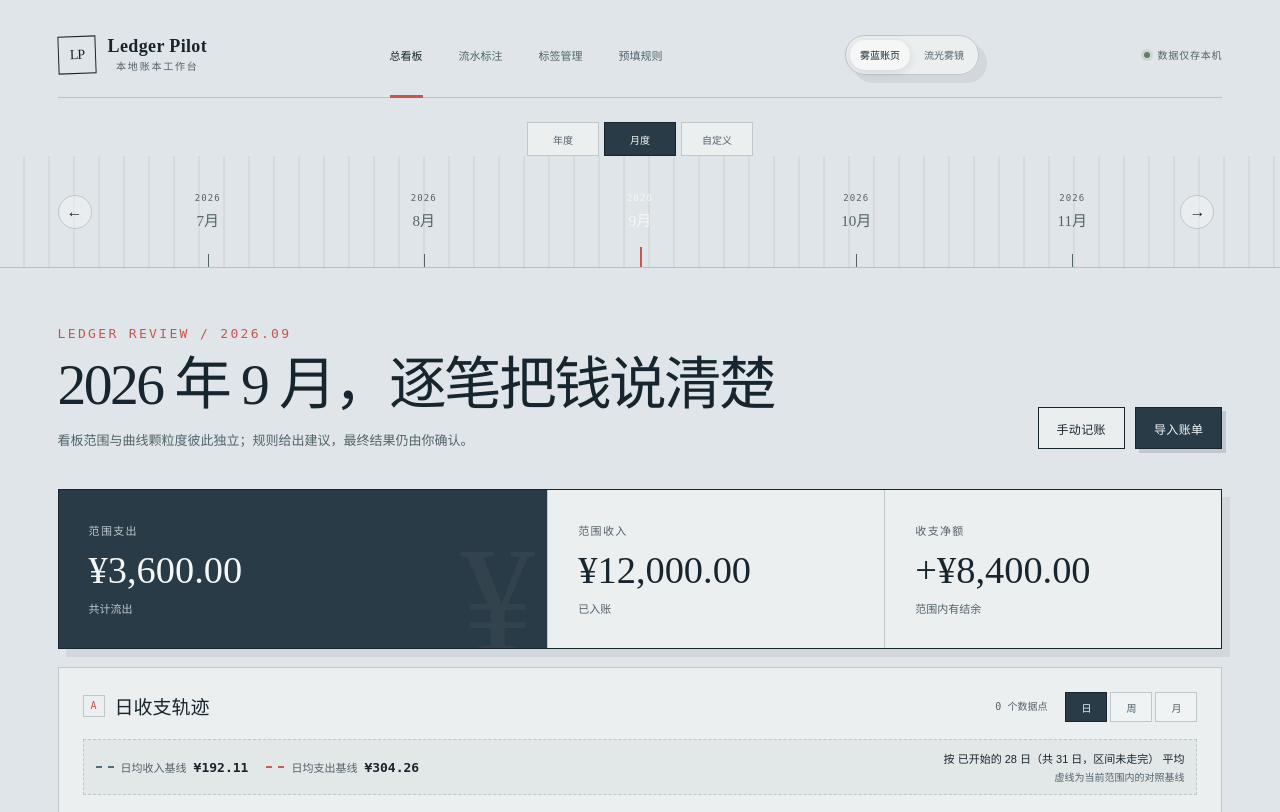
it: App › 基线的平均值与单位随曲线颗粒度切换而重新计算
The width and height of the screenshot is (1280, 812).
Expected: the text "¥192.11" is shown, [194, 760, 248, 775]
Expected: the text "日均收入基线" is shown, [121, 759, 187, 775]
What coordinates should you click on to do the following:
click the button "周"
I would click on:
 (1131, 707)
Its box is [1110, 692, 1152, 722].
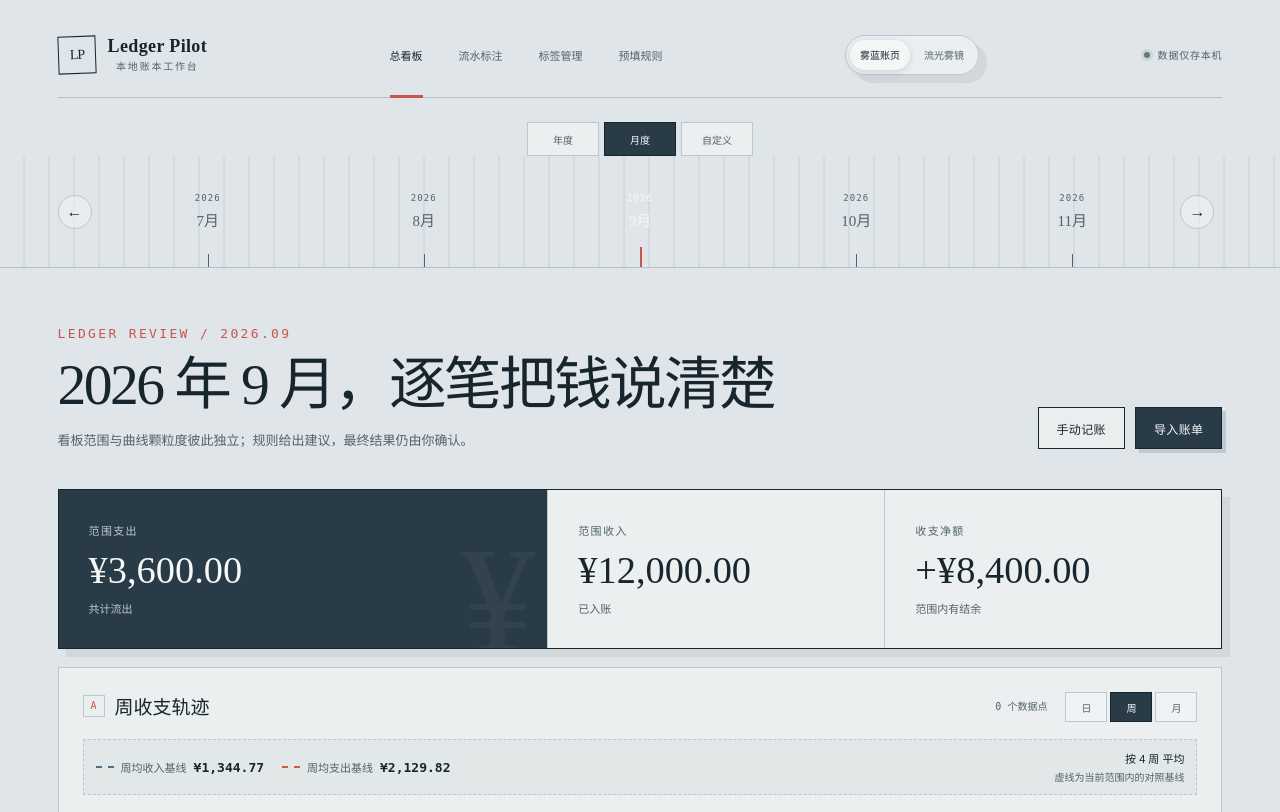
Now the text "¥1,344.77" is shown, box [194, 760, 264, 775]
Now the text "周均收入基线" is shown, box [121, 759, 187, 775]
Now the text "周均支出基线" is shown, box [307, 759, 373, 775]
